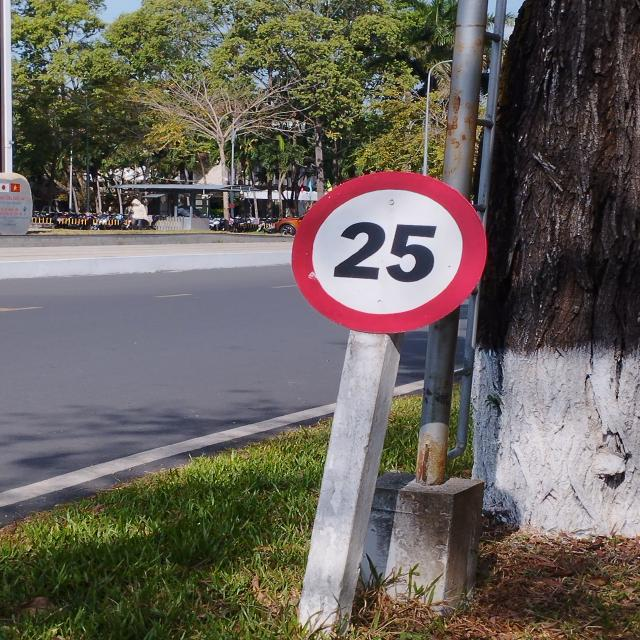Tre_Em: (290, 170, 488, 336)
